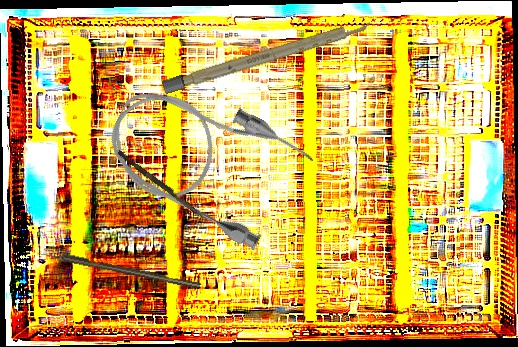Cannula: (92, 60, 319, 257)
Hook Surgical: (36, 247, 202, 291)
Pusher: (115, 150, 210, 221)
Scalpel Handle: (161, 17, 373, 95)
